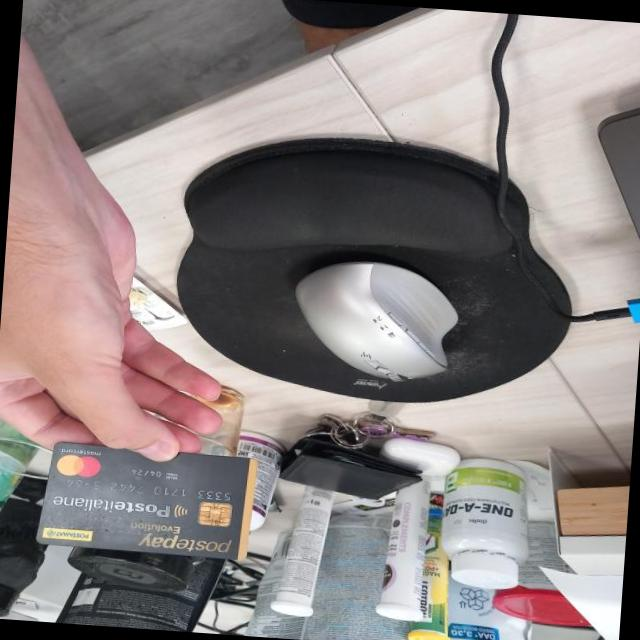card: (39, 437, 250, 563)
